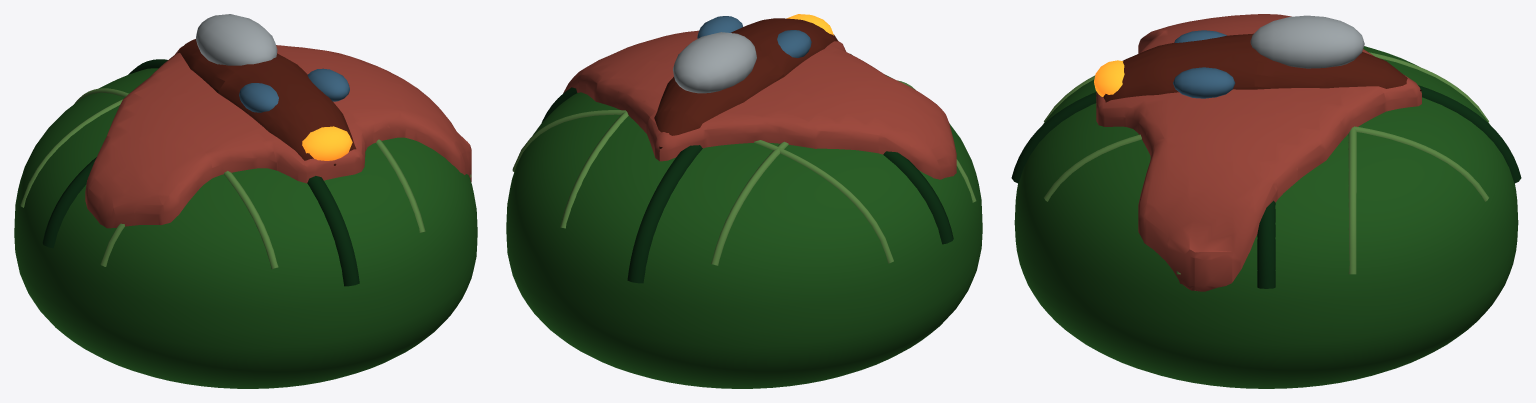
The model's file is pu_dragonwing.glb.
3 renders of one model, left to right at view 1: azimuth 30°, elevation 25°; view 2: azimuth 150°, elevation 25°; view 3: azimuth 270°, elevation 25°, orthographic. The views are drawn at different scales.
Parts seen in each view (by area): view 1: orb, wings, spine, canopy, orb_groove_2, orb_seam_2, dragon_steel, engine; view 2: orb, wings, spine, orb_groove_2, orb_seam_2, canopy, dragon_steel; view 3: orb, wings, spine, canopy, orb_groove_2, orb_seam_2, dragon_steel, engine.
Part boxes in pixels (<box>): orb: <box>14,68,477,388</box>; wings: <box>85,45,471,228</box>; spine: <box>178,39,356,165</box>; canopy: <box>196,14,277,65</box>; orb_groove_2: <box>42,59,359,286</box>; orb_seam_2: <box>20,88,471,268</box>; dragon_steel: <box>239,68,349,112</box>; engine: <box>302,126,352,160</box>; orb: <box>506,75,982,388</box>; wings: <box>563,30,956,179</box>; spine: <box>654,18,838,148</box>; orb_groove_2: <box>541,54,953,283</box>; orb_seam_2: <box>512,80,976,265</box>; canopy: <box>673,32,756,93</box>; dragon_steel: <box>697,16,811,57</box>; orb: <box>1014,46,1518,388</box>; wings: <box>1096,14,1421,291</box>; spine: <box>1096,33,1421,102</box>; canopy: <box>1250,15,1364,68</box>; orb_groove_2: <box>1011,85,1521,288</box>; orb_seam_2: <box>1044,52,1488,274</box>; dragon_steel: <box>1173,30,1235,98</box>; engine: <box>1094,60,1124,96</box>.
Size of the model in its own units: 20.88 by 14.85 by 21.27.
